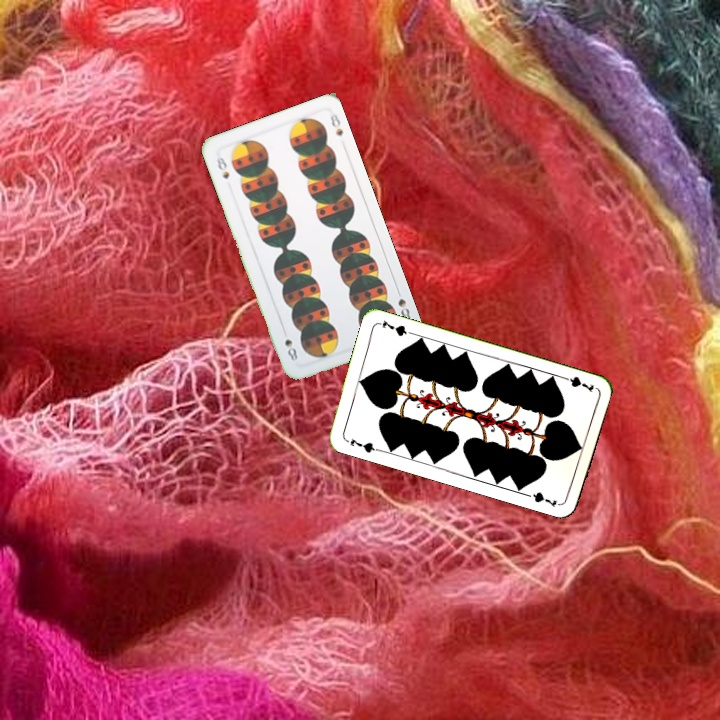G7: (557, 372, 597, 394), (346, 434, 381, 455)
S8: (392, 284, 413, 324), (212, 153, 232, 181)
